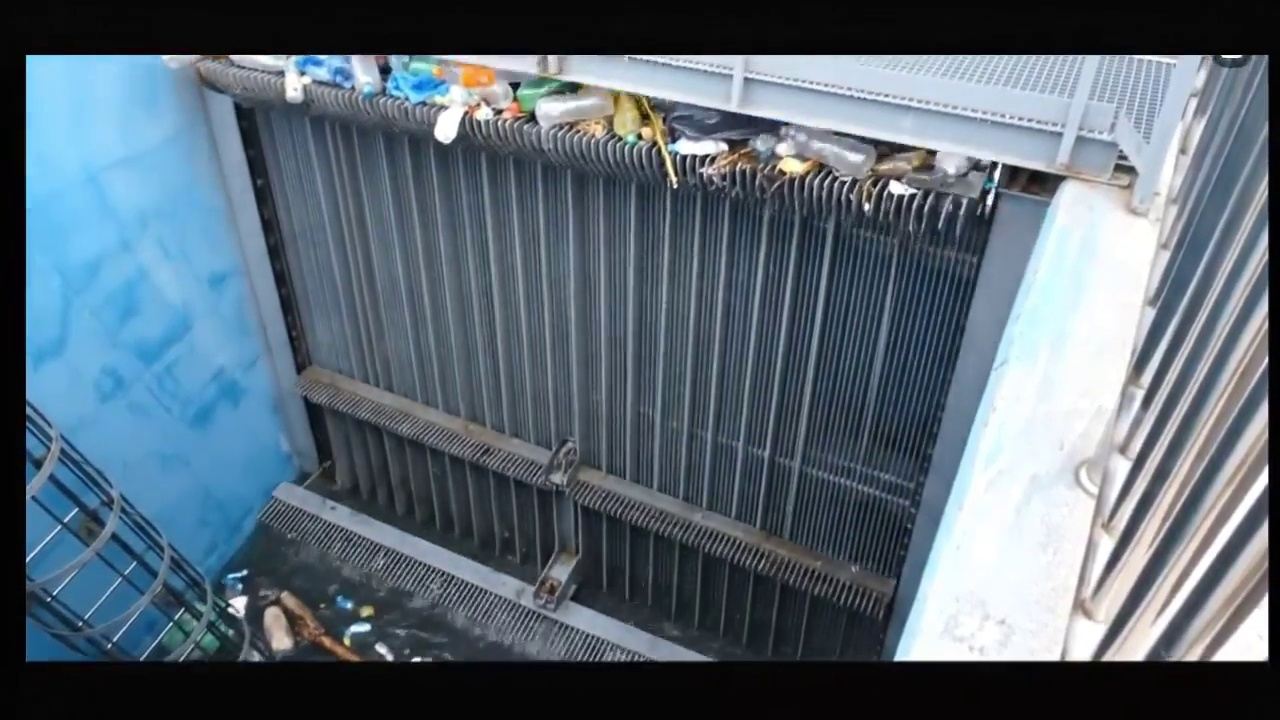debris: (176, 45, 1003, 208), (223, 566, 431, 681)
